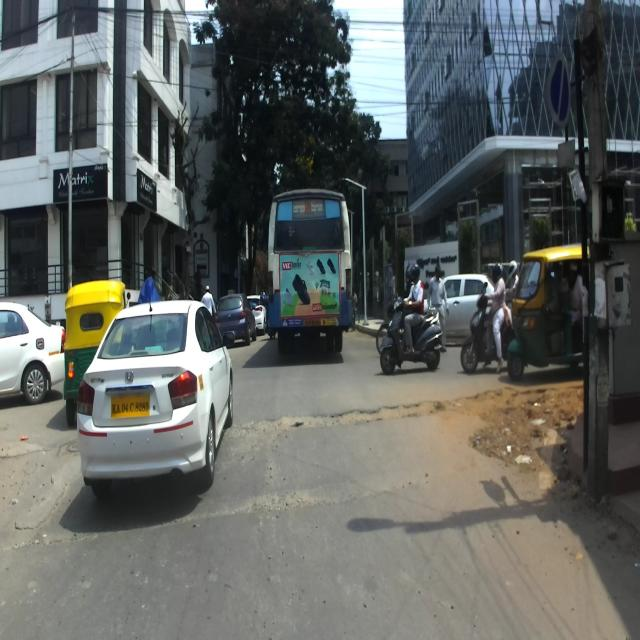Car_Honda: (76, 299, 233, 514)
autorickshaw: (506, 241, 591, 382), (62, 279, 130, 427)
bus: (265, 185, 352, 358)
motorcycle_Hero: (375, 293, 436, 358)
scooter: (379, 296, 447, 375), (460, 280, 514, 374)
